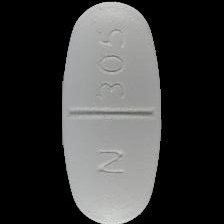63629-1495: (0, 0, 224, 224)
